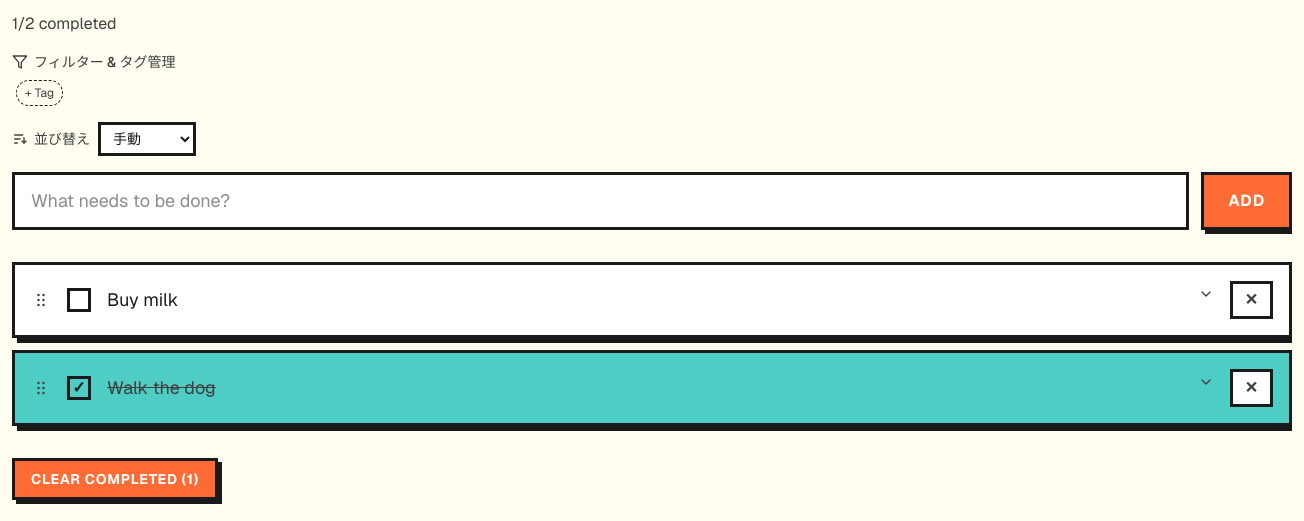
it: TodoSection › can clear completed todos
Expected: the text "Walk the dog" is shown, x1=107 y1=376 x2=216 y2=399
Click the button "Clear completed (1)" at {"x": 115, "y": 479}, box x1=12 y1=458 x2=218 y2=500
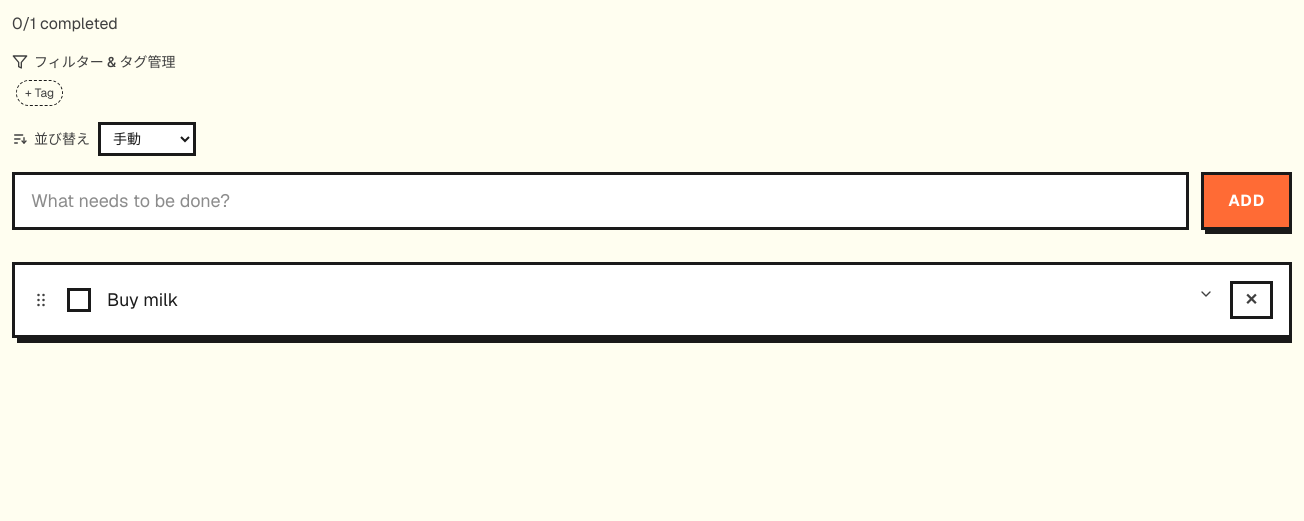
Expected: the text "Buy milk" is shown, x1=107 y1=288 x2=178 y2=311
Now the button "Walk the dog" is gone
Now the text "0/1 completed" is shown, box x1=12 y1=13 x2=118 y2=34
